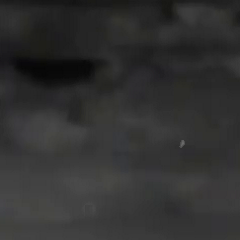Target: (179, 139, 186, 149)
